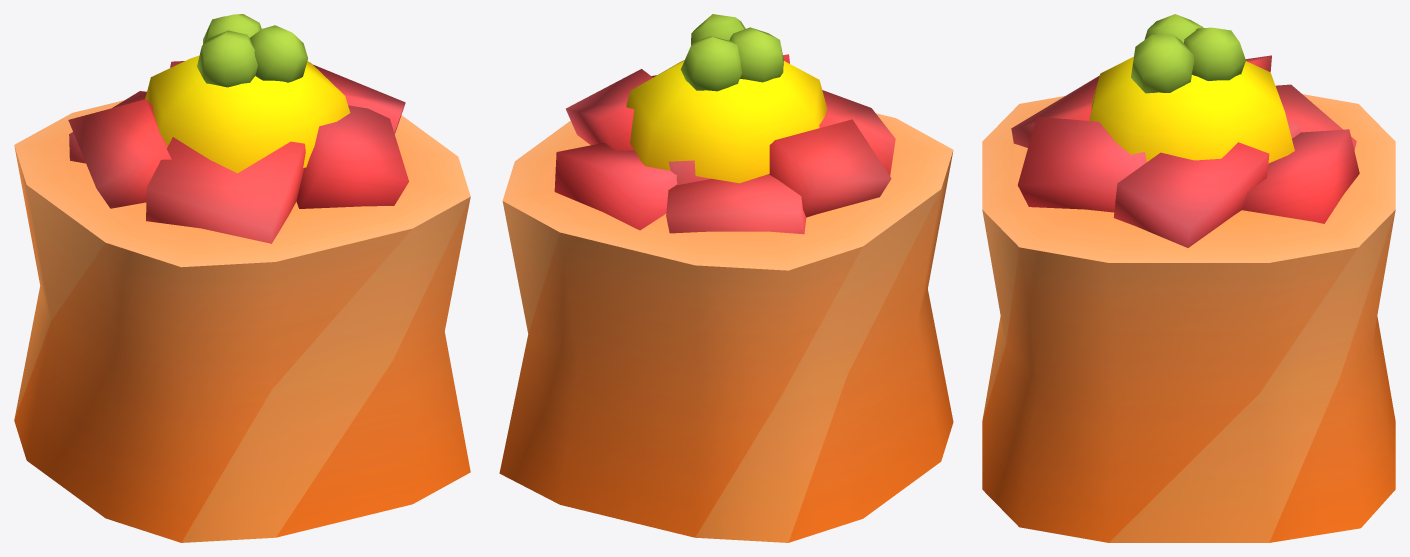
Rendered from Sushi_Small_Salmon_007.gltf.
3 renders of one model, left to right at view 1: azimuth 30°, elevation 25°; view 2: azimuth 150°, elevation 25°; view 3: azimuth 270°, elevation 25°, orthographic. The views are drawn at different scales.
Visible parts, largest first — view 1: Sushi_Small_Salmon_007_x; view 2: Sushi_Small_Salmon_007_x; view 3: Sushi_Small_Salmon_007_x.
Part boxes in pixels (left/top/right/bottom): Sushi_Small_Salmon_007_x: left=14, top=14, right=470, bottom=542; Sushi_Small_Salmon_007_x: left=499, top=14, right=953, bottom=542; Sushi_Small_Salmon_007_x: left=982, top=14, right=1395, bottom=542.
Size of the model in its own units: 0.5119 by 0.6057 by 0.5119.
1 material, 1 textured.
